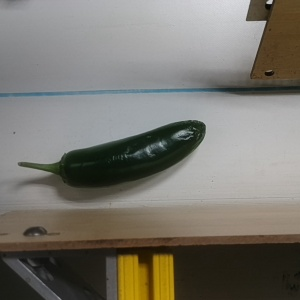Cut Point: (51, 149, 82, 189)
